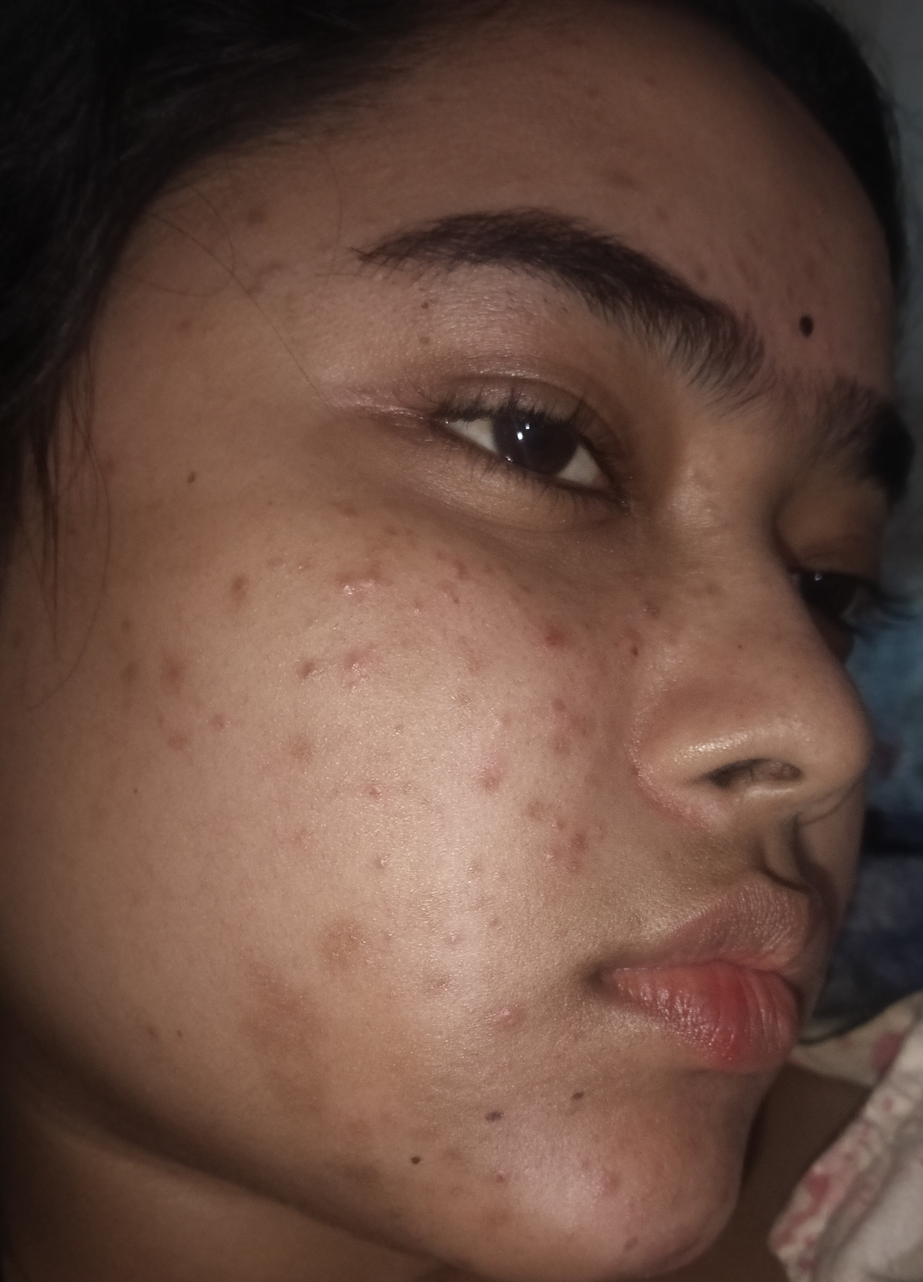closed_comedone: (427, 559, 488, 627), (359, 845, 412, 889)
papule: (532, 828, 617, 900), (530, 608, 587, 680), (587, 1150, 655, 1207), (336, 570, 399, 631), (325, 636, 384, 693), (450, 760, 511, 811), (479, 995, 539, 1040), (357, 767, 386, 822)
